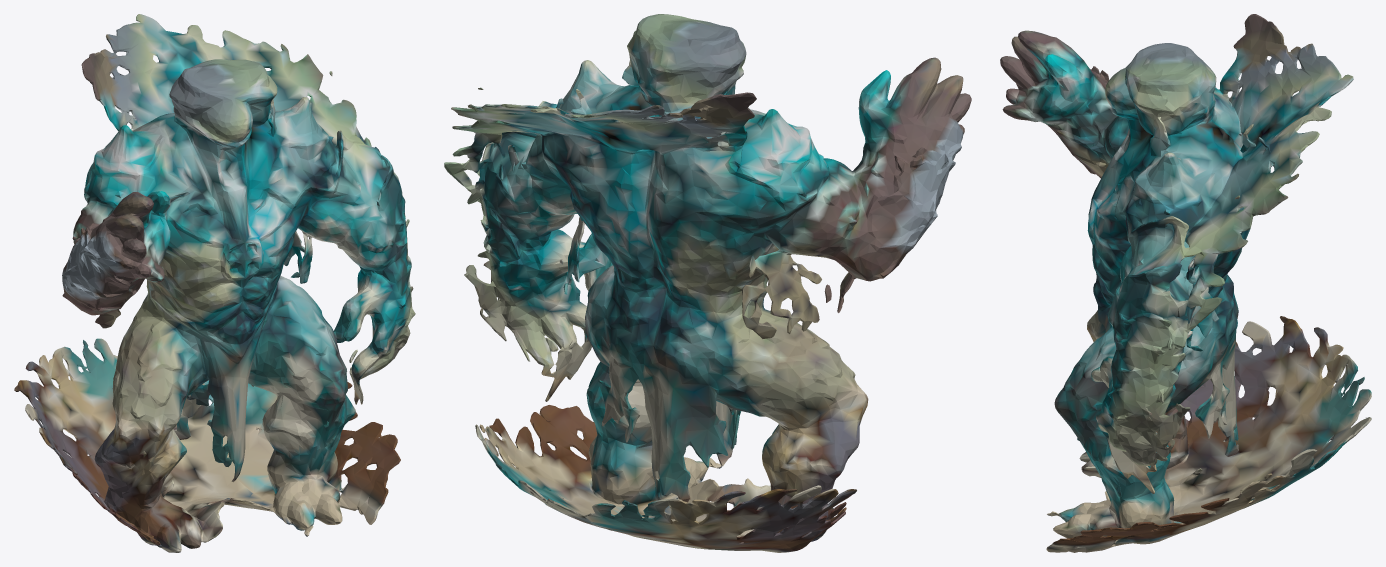
File: golemFragment.glb
3 renders of one model, left to right at view 1: azimuth 30°, elevation 25°; view 2: azimuth 150°, elevation 25°; view 3: azimuth 270°, elevation 25°, orthographic. The views are drawn at different scales.
Parts seen in each view (by area): view 1: world; view 2: world; view 3: world.
Boxes of the visible parts, x1=… form: world: x1=14, y1=14, x2=415, y2=552; world: x1=444, y1=14, x2=971, y2=552; world: x1=1000, y1=14, x2=1371, y2=552.
Bounding box in the file's own units: 0.8892 × 1 × 0.75.
